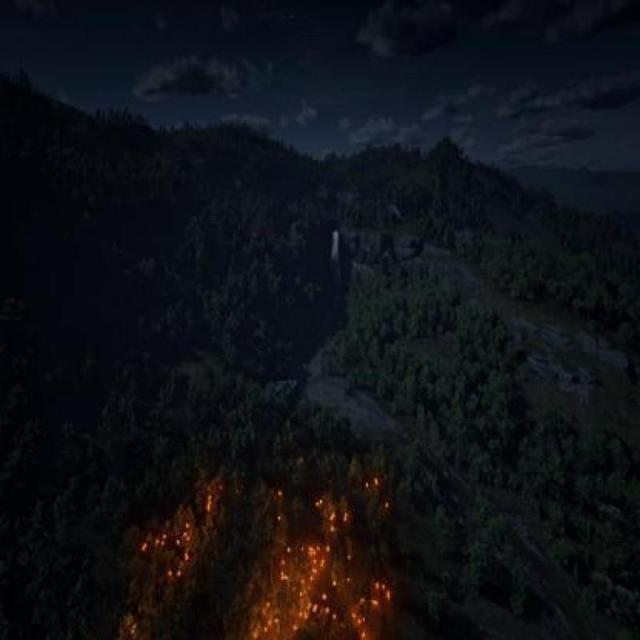Fire: (272, 472, 398, 640), (144, 511, 206, 582), (254, 597, 272, 640), (123, 605, 141, 640), (205, 488, 220, 518)
